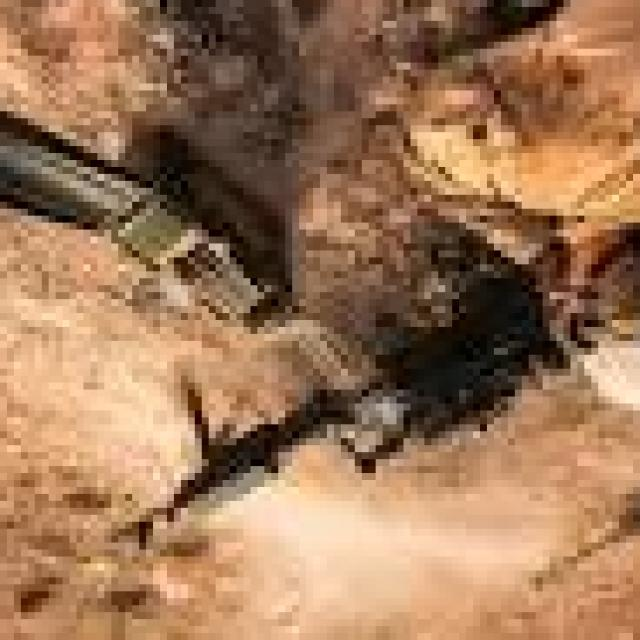Gun: (0, 227, 609, 581)
